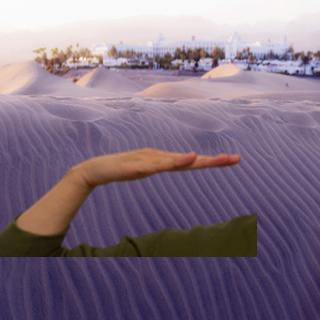WAIT: (70, 137, 248, 188)
